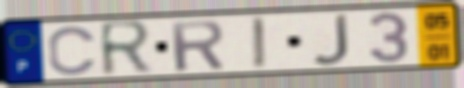3: (365, 10, 412, 67)
C: (46, 24, 100, 78)
I: (248, 15, 269, 72)
J: (308, 12, 352, 68)
R: (96, 18, 156, 80), (167, 18, 228, 74)
